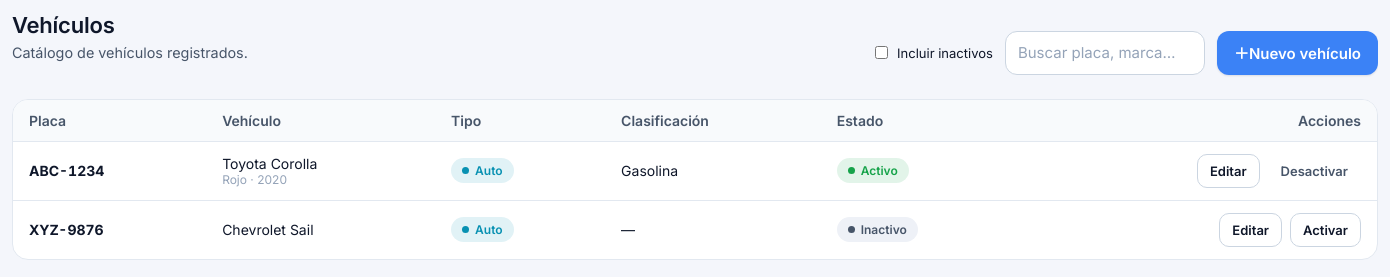
it: VehiculosPage › filtra por término
Check: the text "ABC-1234" is shown, box [29, 162, 104, 179]
In the field named "Buscar vehículos": (1105, 53) [1005, 31, 1205, 75], type "chevrolet"
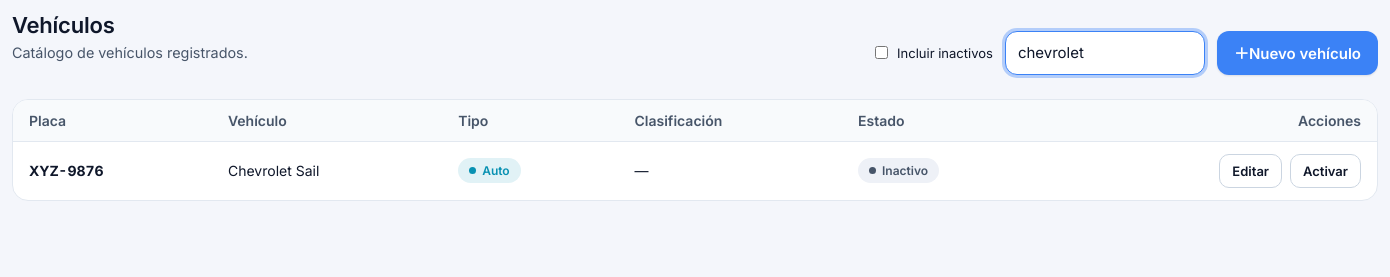
Check: the text "XYZ-9876" is shown, box [29, 162, 104, 179]
Check: the text "ABC-1234" is gone
